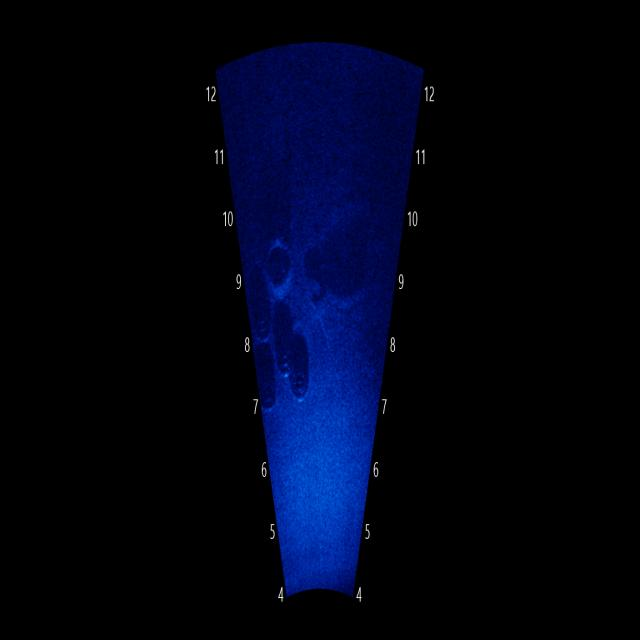circle: (261, 226, 299, 302), (288, 353, 312, 409), (276, 340, 296, 379)
